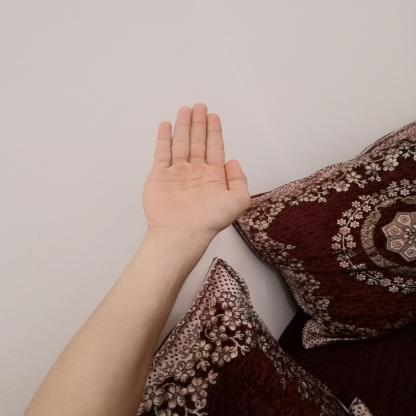SEEN: (132, 97, 260, 241)
